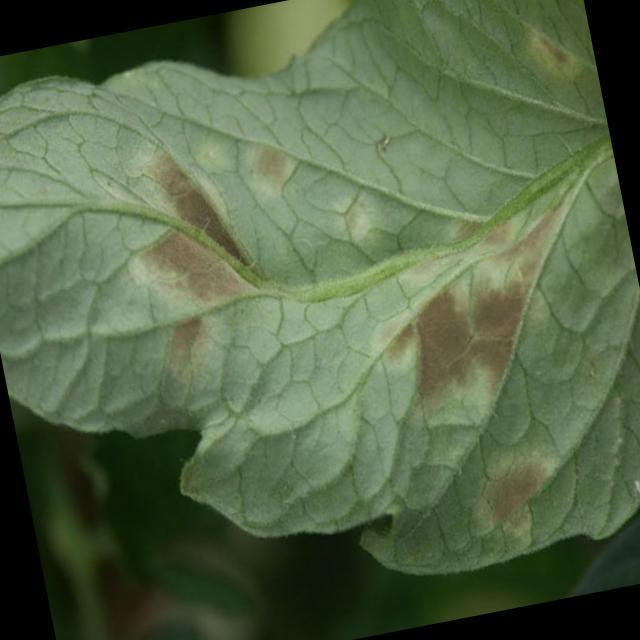Leaf Mold: (84, 16, 639, 623)
